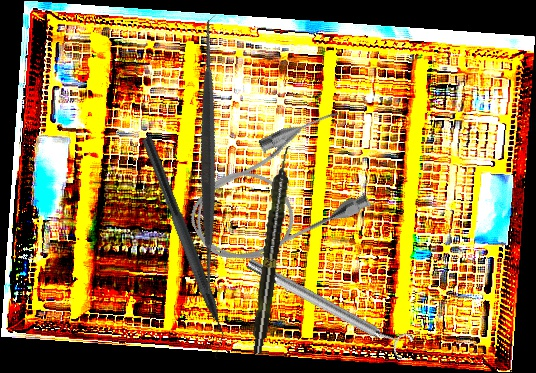Cannula: (172, 103, 382, 282)
Chopper: (126, 134, 239, 361)
Fixation Ring: (242, 248, 415, 363)
Handpiece: (248, 144, 296, 356)
Spatula Surgical: (61, 9, 357, 305)
